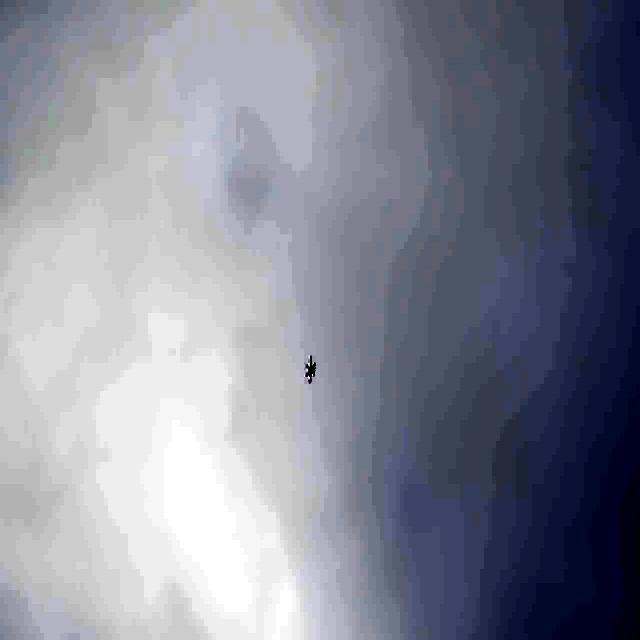drone: (304, 351, 318, 385)
